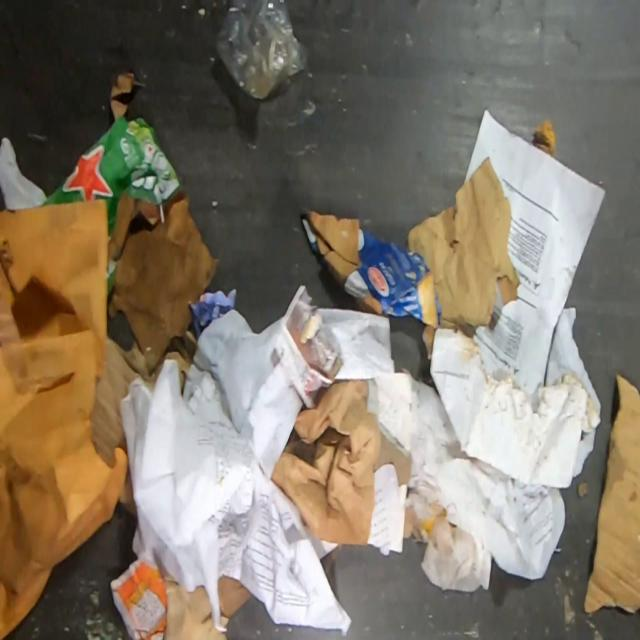cardboard: (406, 155, 602, 490), (40, 71, 218, 360), (93, 308, 197, 523), (300, 209, 441, 327), (583, 372, 640, 615)
rigid_plastic: (214, 0, 311, 100)
